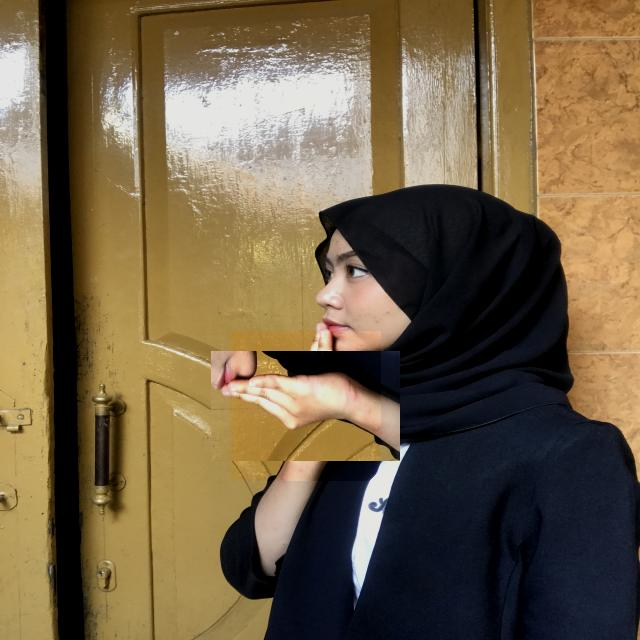ganteng: (231, 331, 381, 481)
